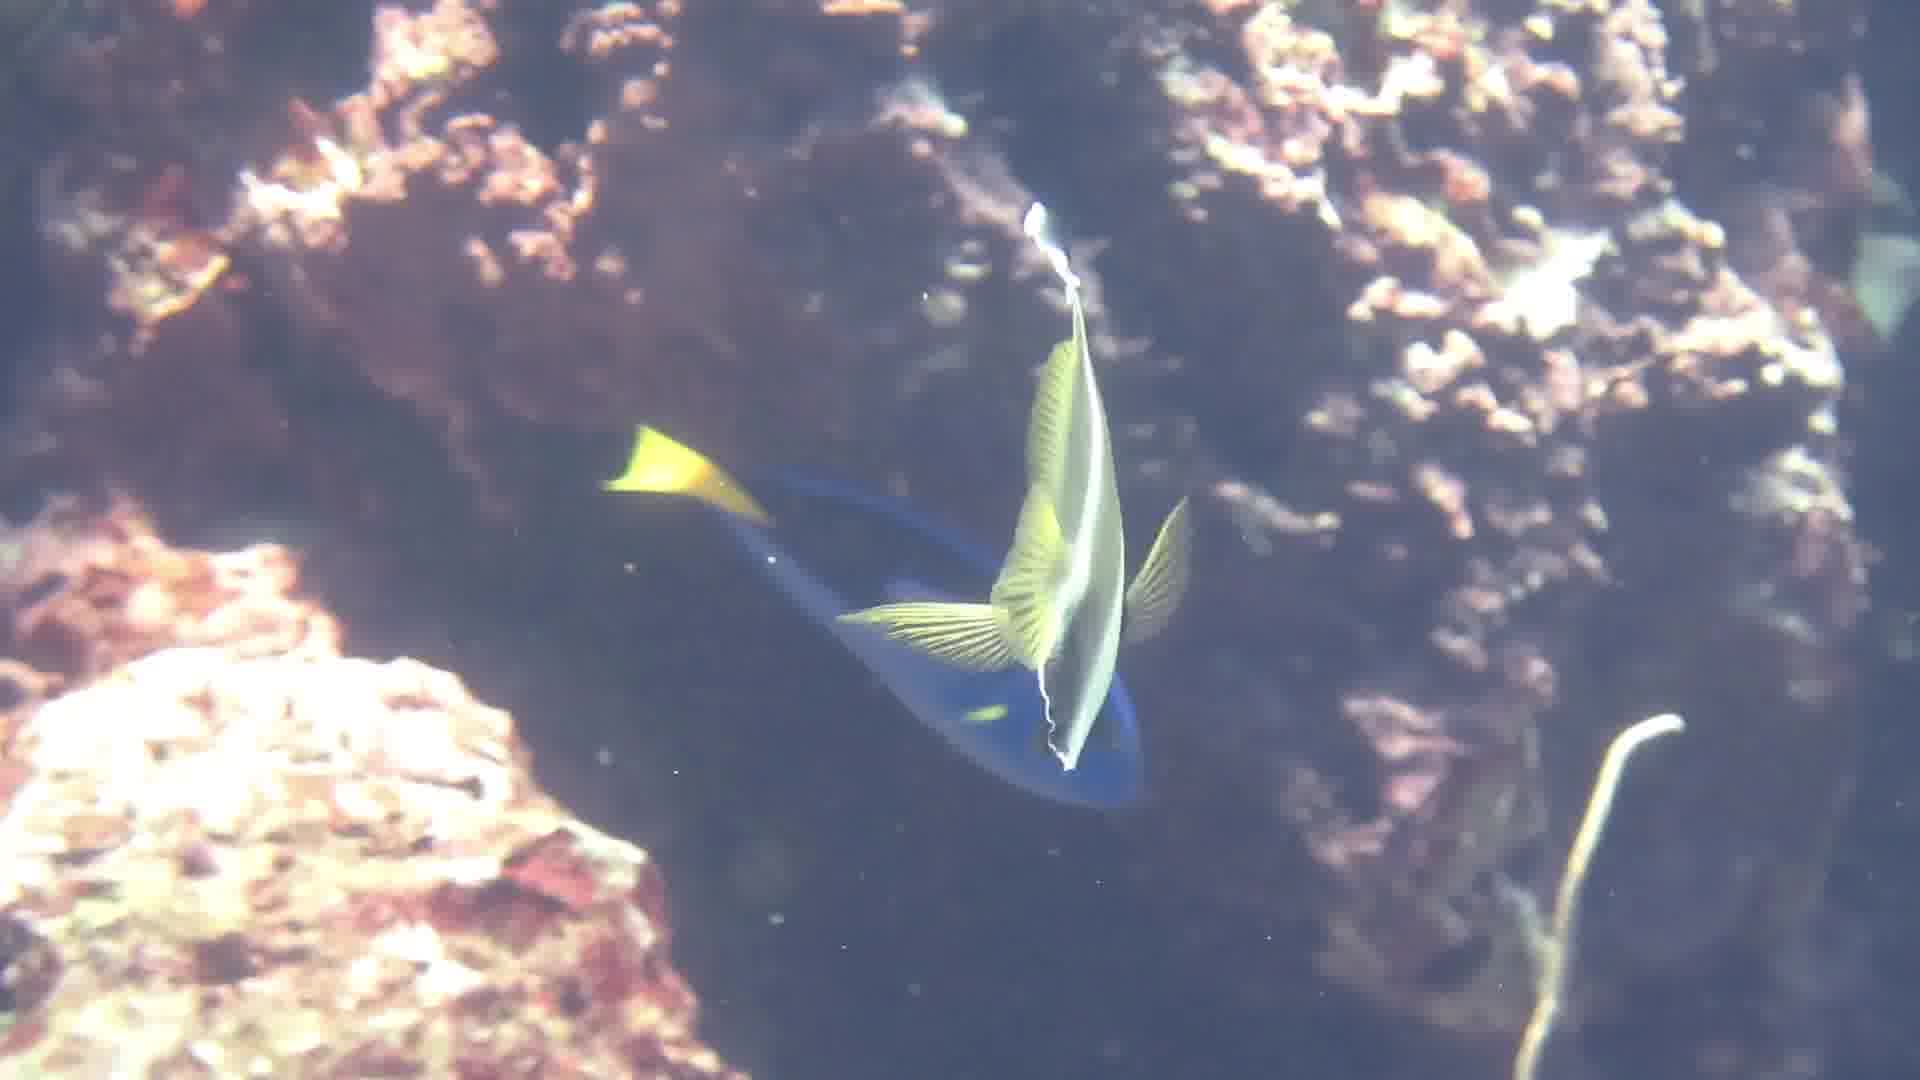Heniochus chrysostomus: (920, 173, 1269, 811)
